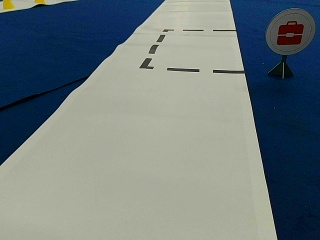company: (266, 7, 315, 53)
